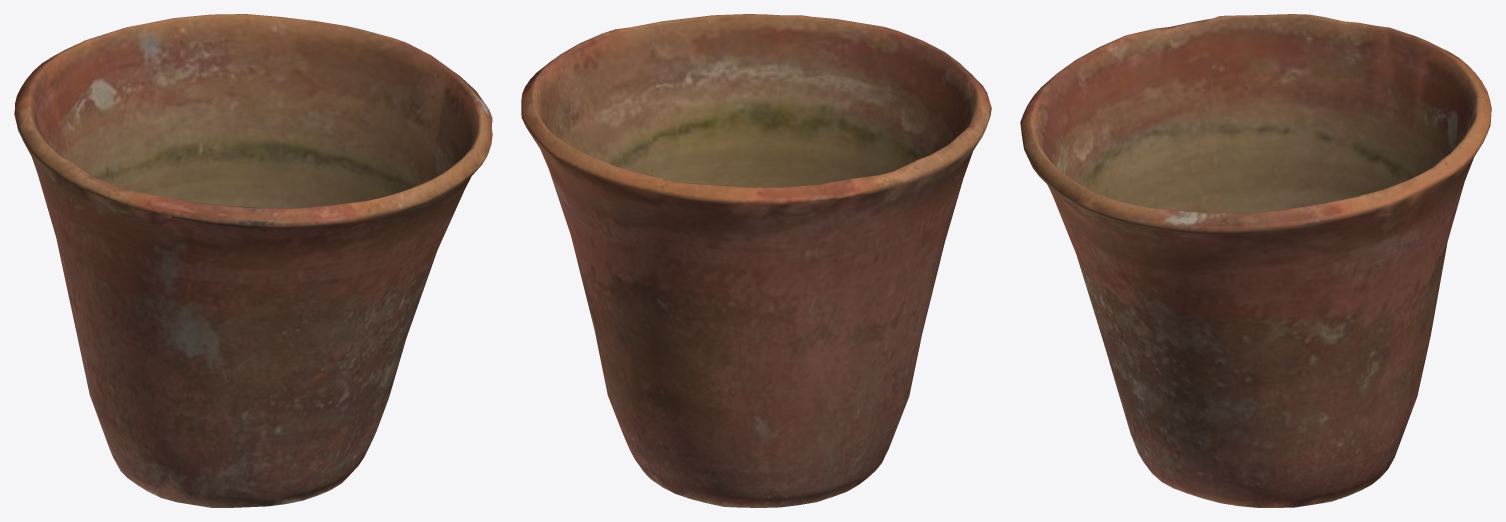
File: planter_pot_clay.glb
3 renders of one model, left to right at view 1: azimuth 30°, elevation 25°; view 2: azimuth 150°, elevation 25°; view 3: azimuth 270°, elevation 25°, orthographic.
Visible parts, largest first — view 1: planter_pot_clay; view 2: planter_pot_clay; view 3: planter_pot_clay.
Boxes of the visible parts, x1,y1,x2,y2 form: planter_pot_clay: (14,14,492,507); planter_pot_clay: (521,14,991,507); planter_pot_clay: (1020,14,1491,507).
Bounding box in the file's own units: 0.266 × 0.2219 × 0.2635.
Materials: 1 (1 with a texture image).
